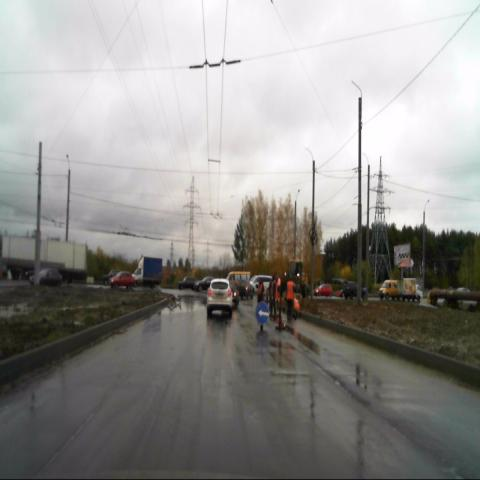4_1_2_2: (256, 300, 270, 326)
